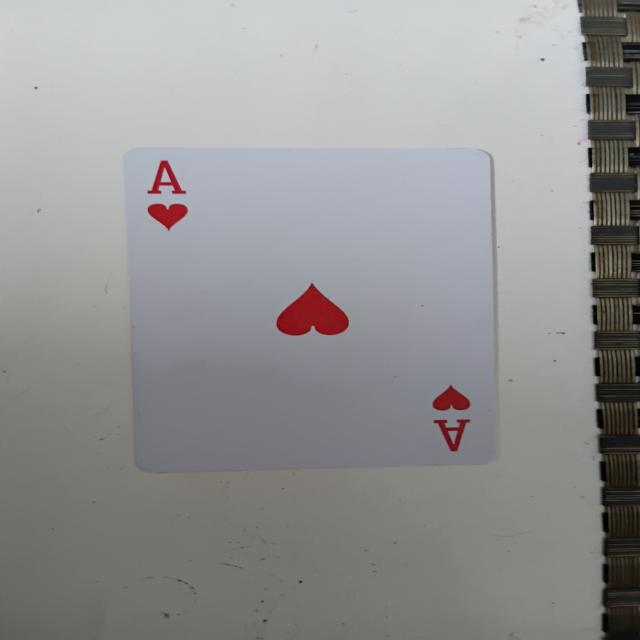AH: (121, 143, 504, 464)
